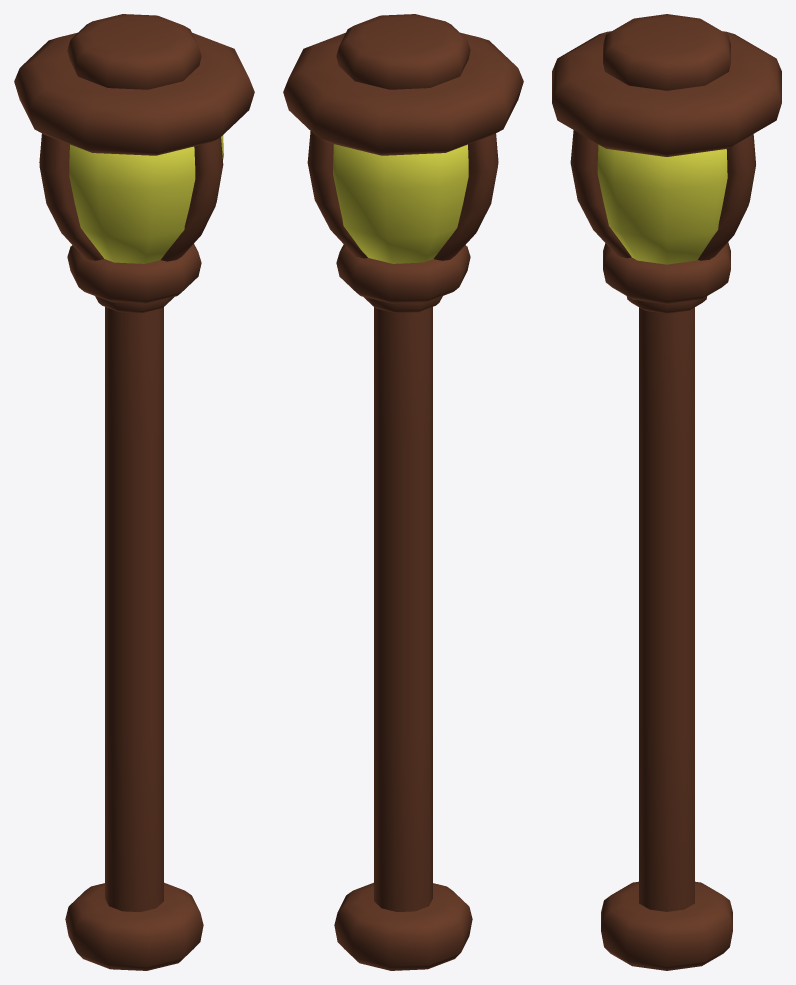
Rendered from StreetLamp.fbx.
3 views of the same model, side by side, from view 1: azimuth 30°, elevation 25°; view 2: azimuth 150°, elevation 25°; view 3: azimuth 270°, elevation 25° (orthographic).
Visible parts, largest first — view 1: pCylinder6; view 2: pCylinder6; view 3: pCylinder6.
Boxes of the visible parts, x1,y1,x2,y2 form: pCylinder6: (14,14,254,970); pCylinder6: (283,14,523,970); pCylinder6: (552,14,781,970).
Bounding box in the file's own units: 2.29 × 9.55 × 2.18.
